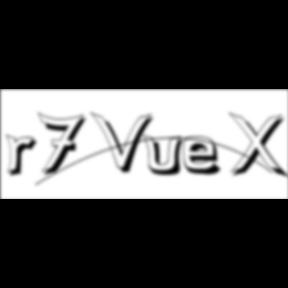7: (38, 111, 92, 179)
V: (91, 110, 158, 176)
e: (183, 135, 229, 178)
r: (6, 134, 44, 180)
u: (142, 132, 190, 178)
